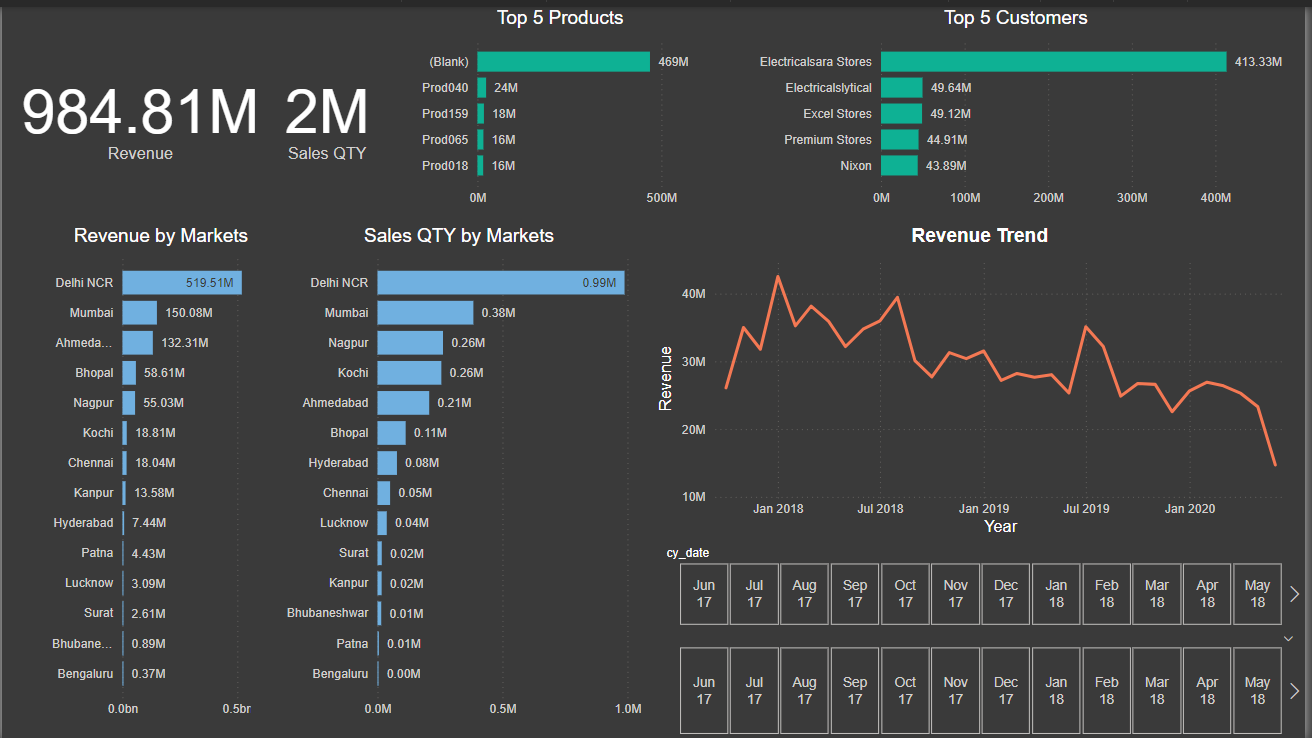

The page's visual inventory and layout, read from the dashboard file:
{"tool":"powerbi","page":{"name":"Page 1","canvas":[1280,720],"ordinal":0},"visuals":[{"type":"card","fields":{"Values":["Sum(sales transactions.sales_amount)"]},"box":[9.6,0,252.5,214.1],"z":0},{"type":"card","fields":{"Values":["Sum(sales transactions.sales_qty)"]},"box":[262.1,0,113.9,214.1],"z":1},{"type":"barChart","title":"Revenue by Markets","fields":{"Y":["Sum(sales transactions.sales_amount)"],"Category":["sales markets.markets_name"]},"box":[9.6,214.1,292.3,506.3],"z":2},{"type":"barChart","title":"Sales QTY by Markets","fields":{"Y":["Sum(sales transactions.sales_qty)"],"Category":["sales markets.markets_name"]},"box":[244.3,214.1,408.9,506.3],"z":3},{"type":"slicer","fields":{"Values":["sales date.cy_date"]},"box":[639.5,524.2,640.8,89.2],"z":4},{"type":"slicer","fields":{"Values":["sales date.cy_date"]},"box":[639.5,613.4,640.8,107],"z":5},{"type":"barChart","title":"Top 5 Customers ","fields":{"Category":["sales customers.custmer_name"],"Y":["Sum(sales transactions.sales_amount)"]},"box":[710.8,0,569.5,214.1],"z":6},{"type":"barChart","title":"Top 5 Products ","fields":{"Category":["sales products.product_code"],"Y":["Sum(sales transactions.sales_amount)"]},"box":[385.6,0,325.2,214.1],"z":7},{"type":"lineChart","title":"Revenue Trend ","fields":{"Y":["Sum(sales transactions.sales_amount)"],"Category":["sales date.cy_date.Variation.Date Hierarchy.Year","sales date.cy_date.Variation.Date Hierarchy.Quarter","sales date.cy_date.Variation.Date Hierarchy.Month","sales date.cy_date.Variation.Date Hierarchy.Day"]},"box":[639.5,214.1,640.8,310.1],"z":8}]}

Visuals, with their boxes in screenshot pixels (x1, y1, x2, y2), scaled from the page's 1280x720 canvas onto the 1312x738 screenshot:
card - Sum(sales transactions.sales_amount): region(10, 0, 269, 219)
card - Sum(sales transactions.sales_qty): region(269, 0, 385, 219)
"Revenue by Markets" barChart: region(10, 219, 309, 737)
"Sales QTY by Markets" barChart: region(250, 219, 670, 737)
slicer - sales date.cy_date: region(655, 537, 1311, 629)
slicer - sales date.cy_date: region(655, 629, 1311, 737)
"Top 5 Customers " barChart: region(729, 0, 1311, 219)
"Top 5 Products " barChart: region(395, 0, 729, 219)
"Revenue Trend " lineChart: region(655, 219, 1311, 537)
